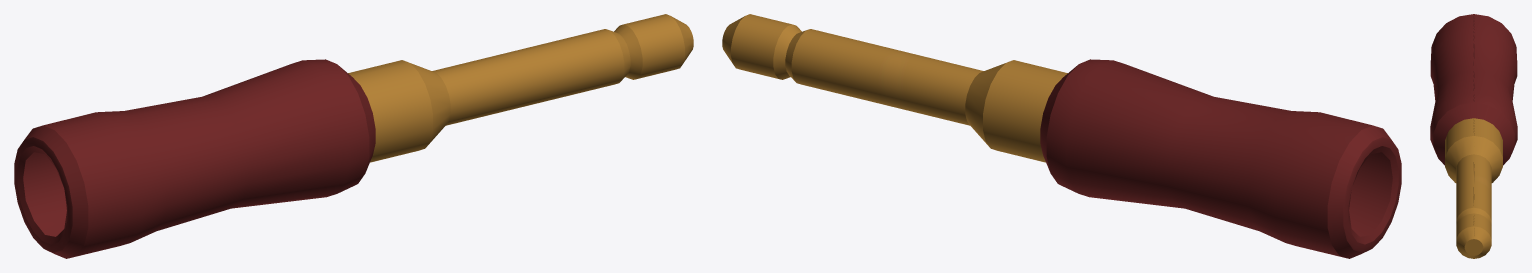
File: jack.fbx
The picture shows the model from 3 angles, left to right: view 1: azimuth 30°, elevation 25°; view 2: azimuth 150°, elevation 25°; view 3: azimuth 270°, elevation 25°; orthographic projection. The views are drawn at different scales.
Visible parts, largest first — view 1: JACK 1; view 2: JACK 1; view 3: JACK 1.
Part boxes in pixels (<box>): JACK 1: <box>14,14,693,258</box>; JACK 1: <box>722,14,1401,258</box>; JACK 1: <box>1430,14,1517,258</box>.
Bounding box in the file's own units: 18.51 × 3.49 × 3.43.
